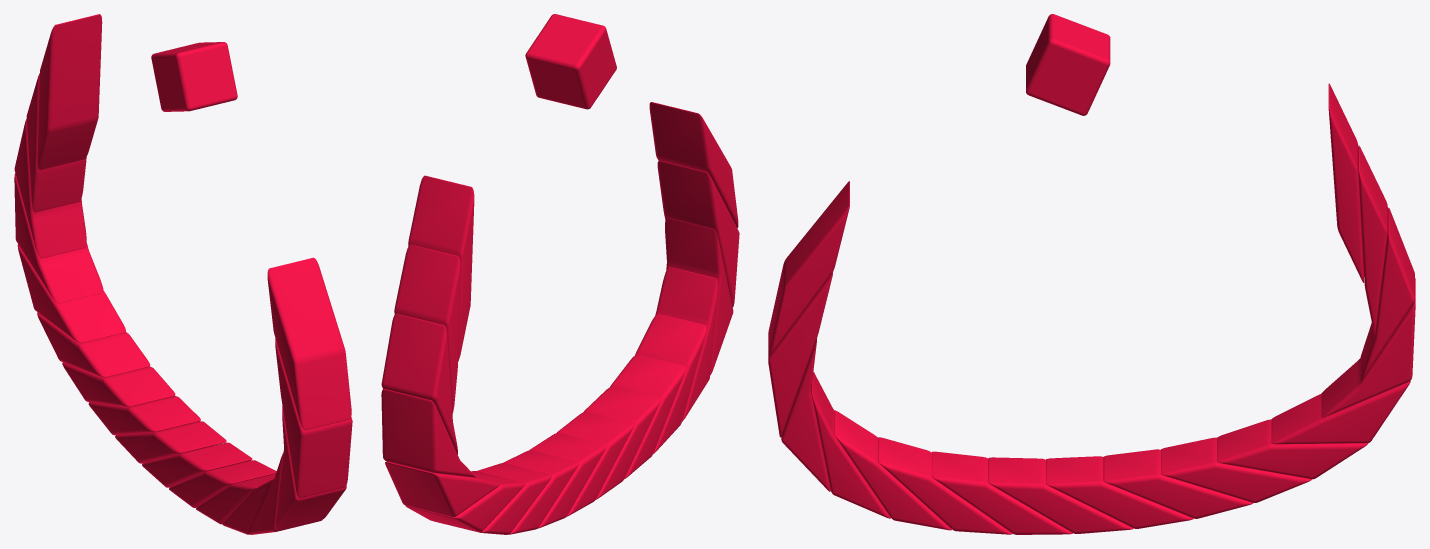
The model's file is nun.fbx.
3 views of the same model, side by side, from view 1: azimuth 30°, elevation 25°; view 2: azimuth 150°, elevation 25°; view 3: azimuth 270°, elevation 25° (orthographic). The views are drawn at different scales.
Parts seen in each view (by area): view 1: Cube, Cube.001; view 2: Cube, Cube.001; view 3: Cube, Cube.001.
Boxes of the visible parts, <box> form: Cube: <box>14,14,352,534</box>; Cube.001: <box>151,42,237,111</box>; Cube: <box>381,102,739,534</box>; Cube.001: <box>525,14,616,109</box>; Cube: <box>768,83,1415,534</box>; Cube.001: <box>1026,14,1110,115</box>.
Bounding box in the file's own units: 60.53 × 491 × 581.
